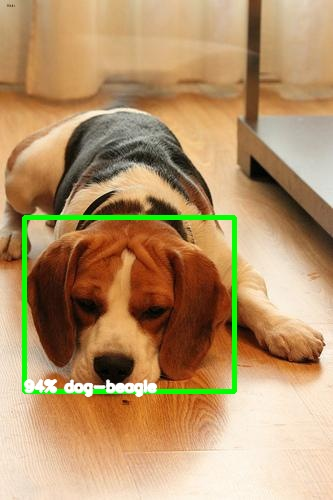dog-beagle: (24, 227, 232, 392)
